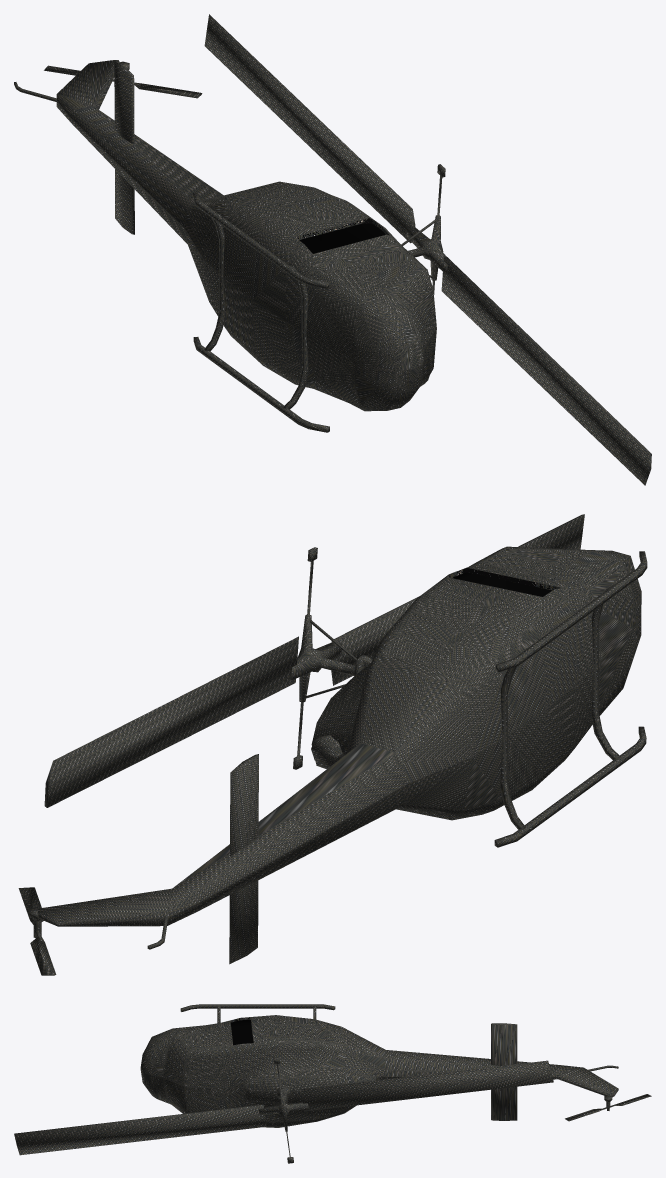
The model's file is Neoflycrashedplane10.gltf.
3 renders of one model, top to bottom at view 1: azimuth 30°, elevation 25°; view 2: azimuth 150°, elevation 25°; view 3: azimuth 270°, elevation 25°, orthographic. The views are drawn at different scales.
Parts seen in each view (by area): view 1: Bell_Huey, Top_Rotor, Inside1; view 2: Bell_Huey, Top_Rotor, Back_Rotor, Inside1; view 3: Bell_Huey, Top_Rotor, Inside1, Back_Rotor.
Boxes of the visible parts, bbox=[...] form: Bell_Huey: bbox=[14, 60, 436, 432]; Top_Rotor: bbox=[204, 14, 651, 485]; Inside1: bbox=[299, 223, 385, 253]; Bell_Huey: bbox=[29, 546, 647, 964]; Top_Rotor: bbox=[44, 514, 584, 807]; Back_Rotor: bbox=[18, 887, 56, 975]; Inside1: bbox=[452, 572, 552, 596]; Bell_Huey: bbox=[140, 1004, 618, 1127]; Top_Rotor: bbox=[14, 1057, 553, 1163]; Inside1: bbox=[231, 1019, 253, 1045]; Back_Rotor: bbox=[565, 1094, 651, 1121].
Bounding box in the file's own units: 4.02 × 3.16 × 17.33.
